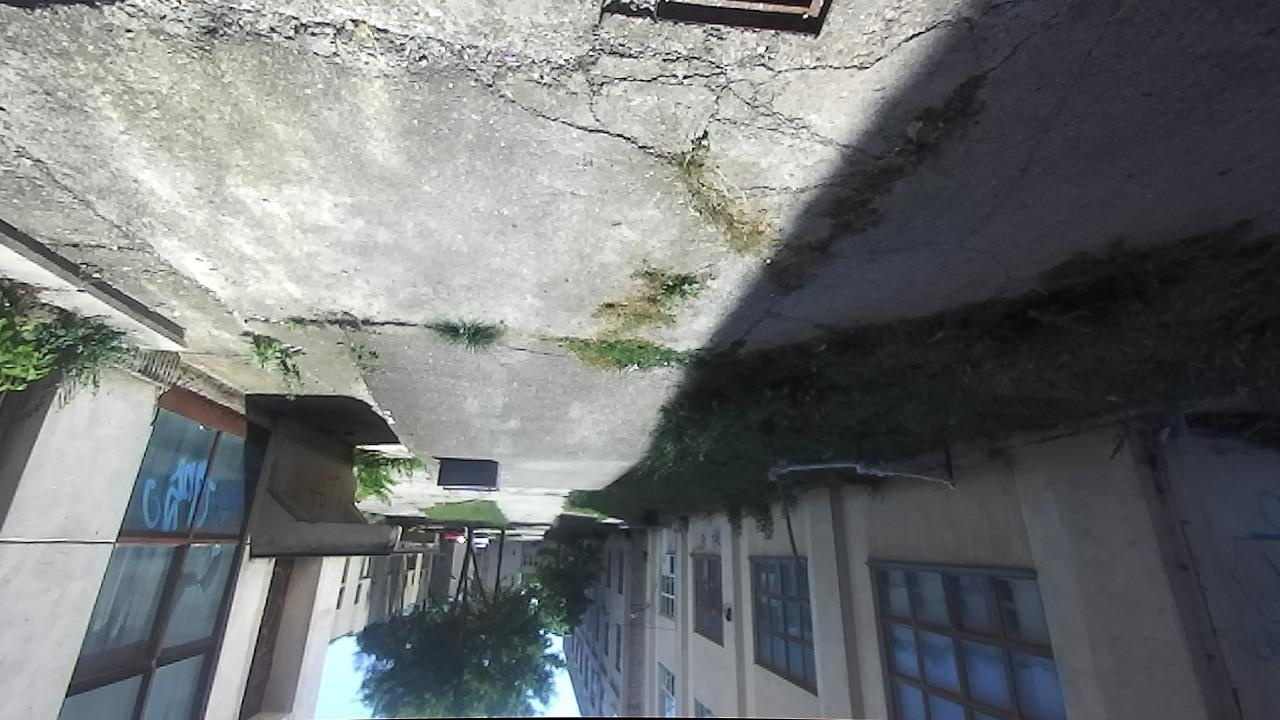drain: (649, 1, 834, 45)
